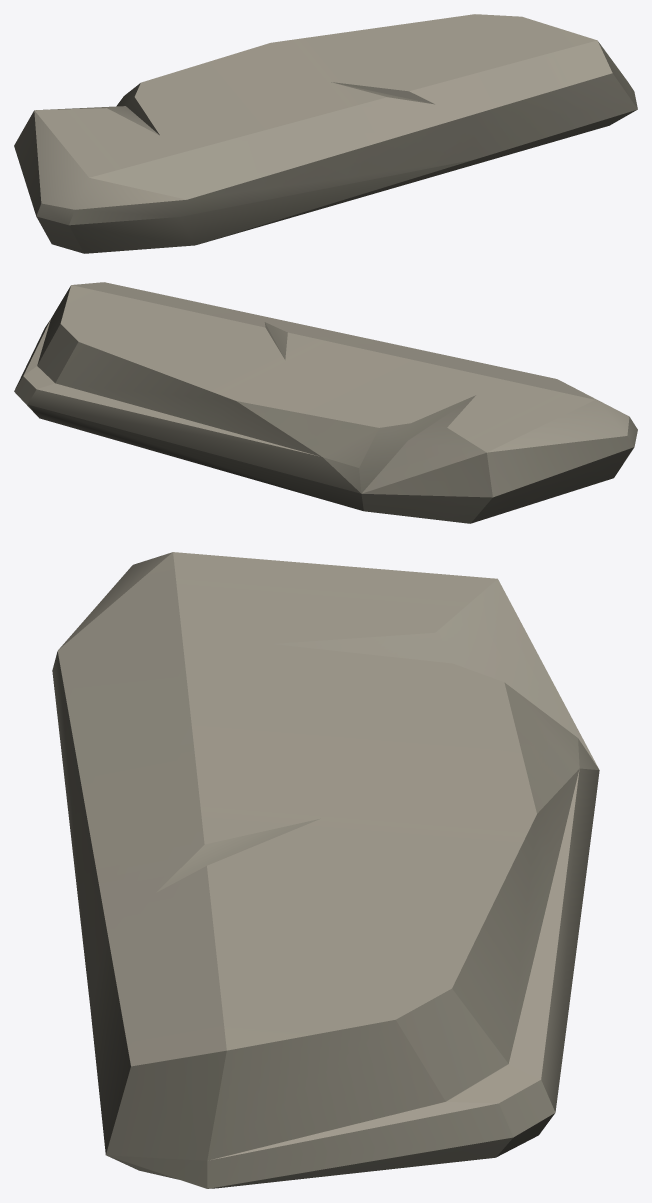
The model's file is Stone_Step_3A.fbx.
The picture shows the model from 3 angles, top to bottom: view 1: azimuth 30°, elevation 25°; view 2: azimuth 150°, elevation 25°; view 3: azimuth 270°, elevation 25°; orthographic projection. The views are drawn at different scales.
Parts seen in each view (by area): view 1: Stone_Step_3A; view 2: Stone_Step_3A; view 3: Stone_Step_3A.
Part boxes in pixels (x1=…): Stone_Step_3A: x1=14, y1=14, x2=637, y2=253; Stone_Step_3A: x1=14, y1=282, x2=637, y2=523; Stone_Step_3A: x1=52, y1=552, x2=599, y2=1188.
Size of the model in its own units: 2.78 by 0.2933 by 1.12.
